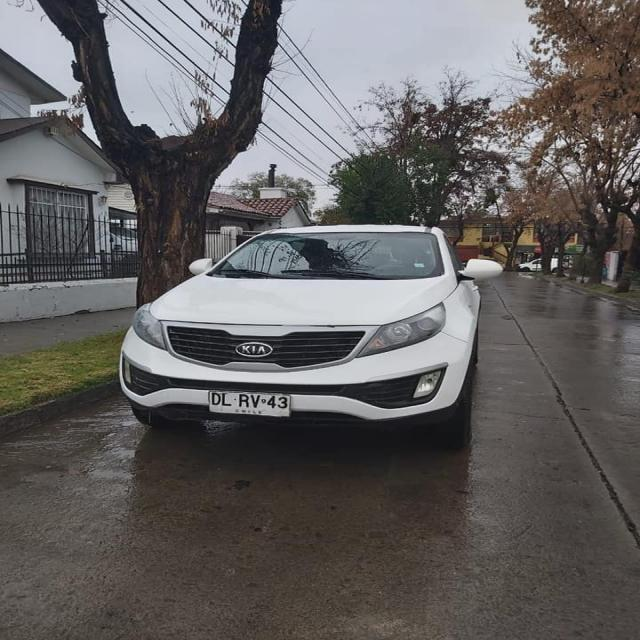patente: (206, 390, 292, 417)
